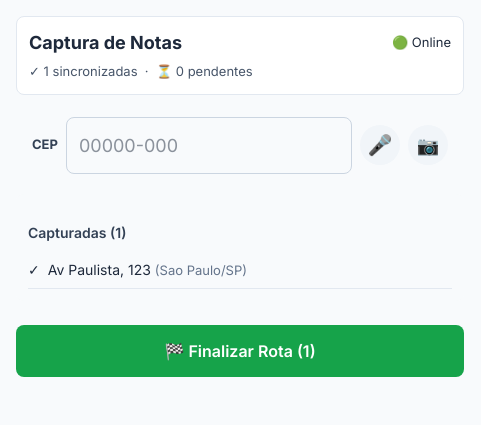
Scenario: CapturaNotasPage — botao Finalizar › clicar Finalizar mostra mensagem de status e esconde InputEnderecoNF
The width and height of the screenshot is (481, 425).
Expected: the heading "Capturadas (1)" is shown, [28,224,126,240]
Click the button "🏁 Finalizar Rota (1)": (240, 351) [16,325,464,377]
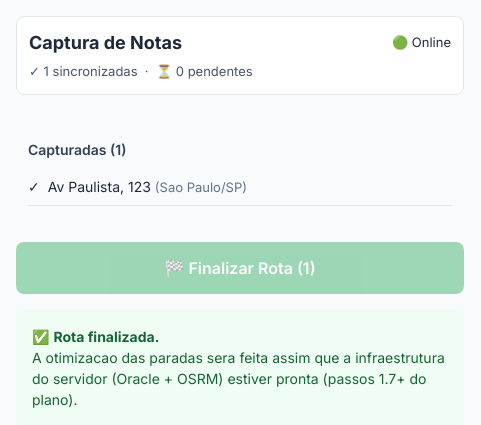
Expected: the message shows "Rota finalizada", [53,328,159,345]
